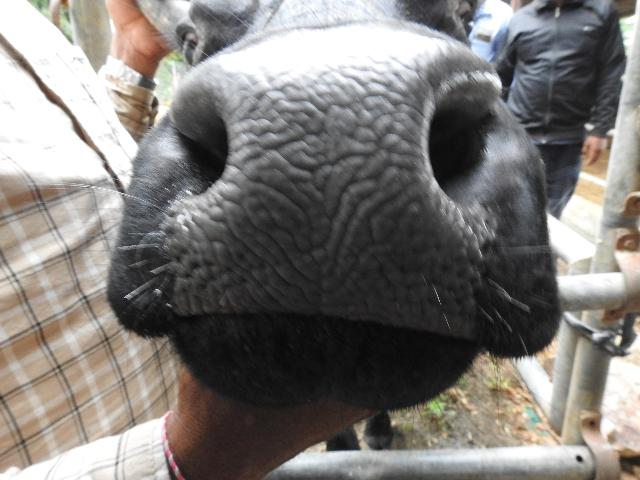Muzzle: (170, 59, 468, 319)
